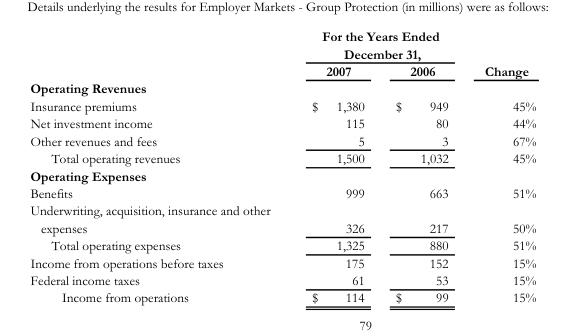table: (29, 28, 535, 304)
table column: (29, 28, 290, 304), (290, 28, 379, 304), (379, 28, 465, 304), (465, 28, 535, 304)
table column header: (29, 28, 535, 79)
table projected row header: (29, 79, 535, 97), (29, 166, 535, 184)
table row: (29, 201, 535, 236), (29, 28, 535, 62), (29, 79, 535, 97), (29, 114, 535, 132), (29, 166, 535, 184), (29, 236, 535, 254), (29, 62, 535, 79), (29, 97, 535, 114), (29, 132, 535, 149), (29, 149, 535, 166), (29, 184, 535, 201), (29, 254, 535, 271), (29, 271, 535, 288), (29, 288, 535, 304)
table spanning cell: (290, 28, 465, 62), (465, 28, 535, 79)
